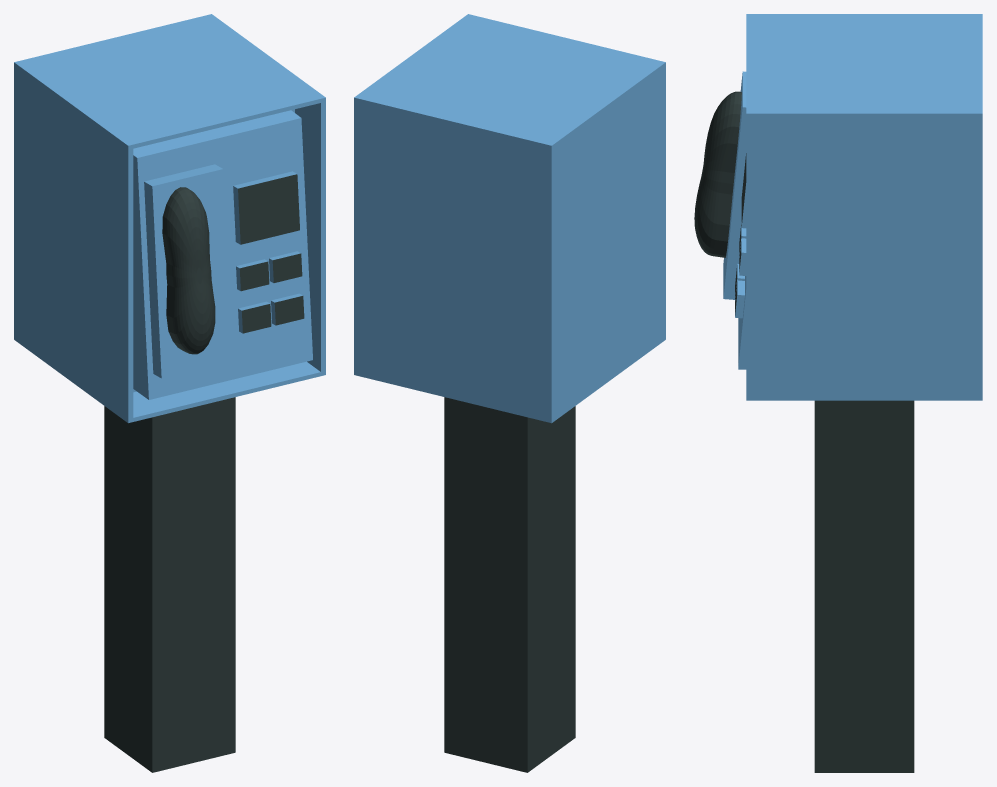
File: PhoneBooth.glb
3 views of the same model, side by side, from view 1: azimuth 30°, elevation 25°; view 2: azimuth 150°, elevation 25°; view 3: azimuth 270°, elevation 25° (orthographic). The views are drawn at different scales.
Visible parts, largest first — view 1: PhoneBooth; view 2: PhoneBooth; view 3: PhoneBooth.
Boxes of the visible parts, <box> form: PhoneBooth: <box>14,14,325,772</box>; PhoneBooth: <box>354,14,665,772</box>; PhoneBooth: <box>694,14,982,772</box>.
Size of the model in its own units: 2.14 by 6.89 by 2.61.
